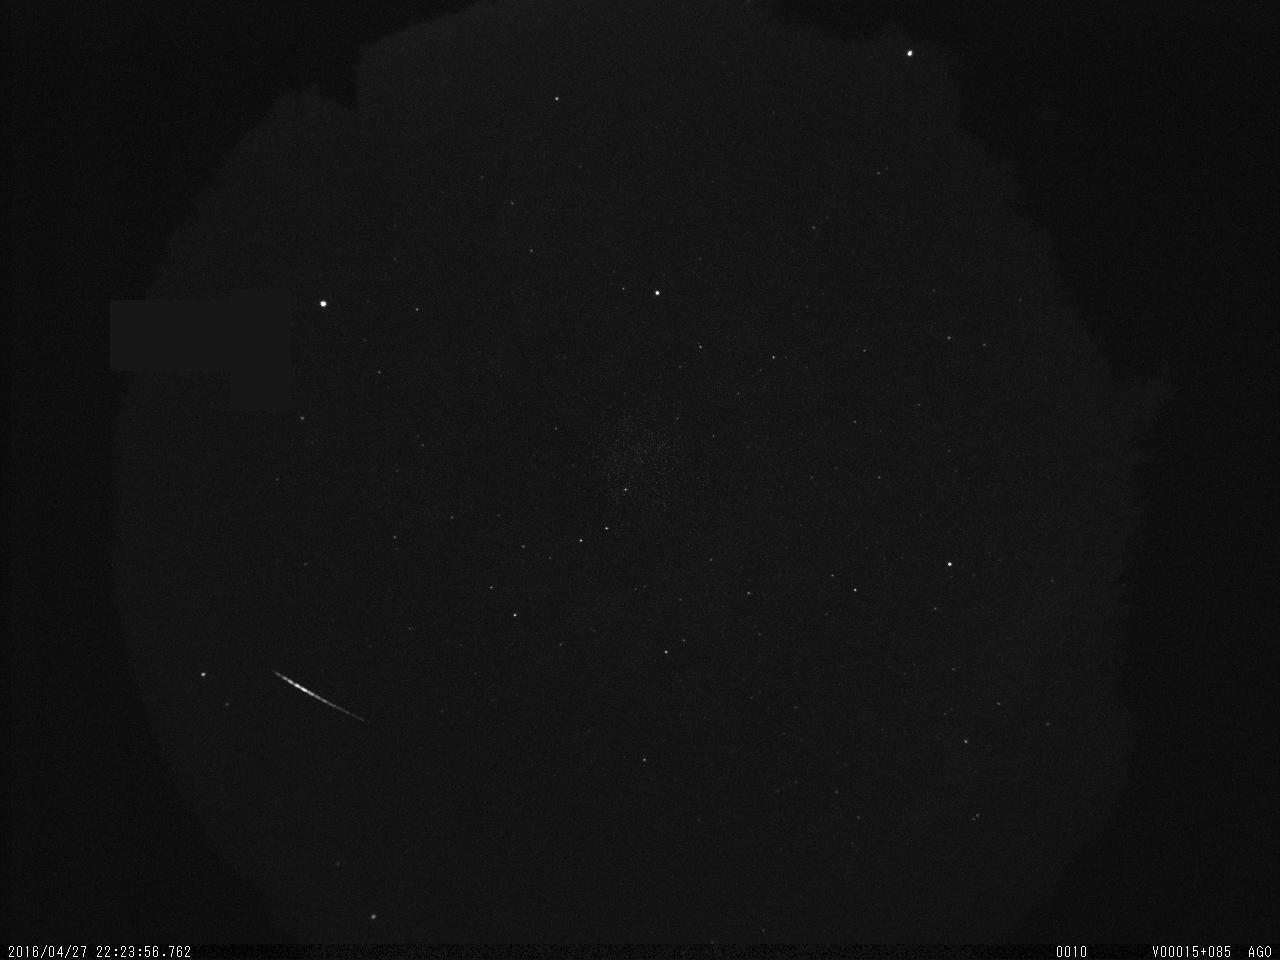Meteor: (265, 664, 370, 732)
